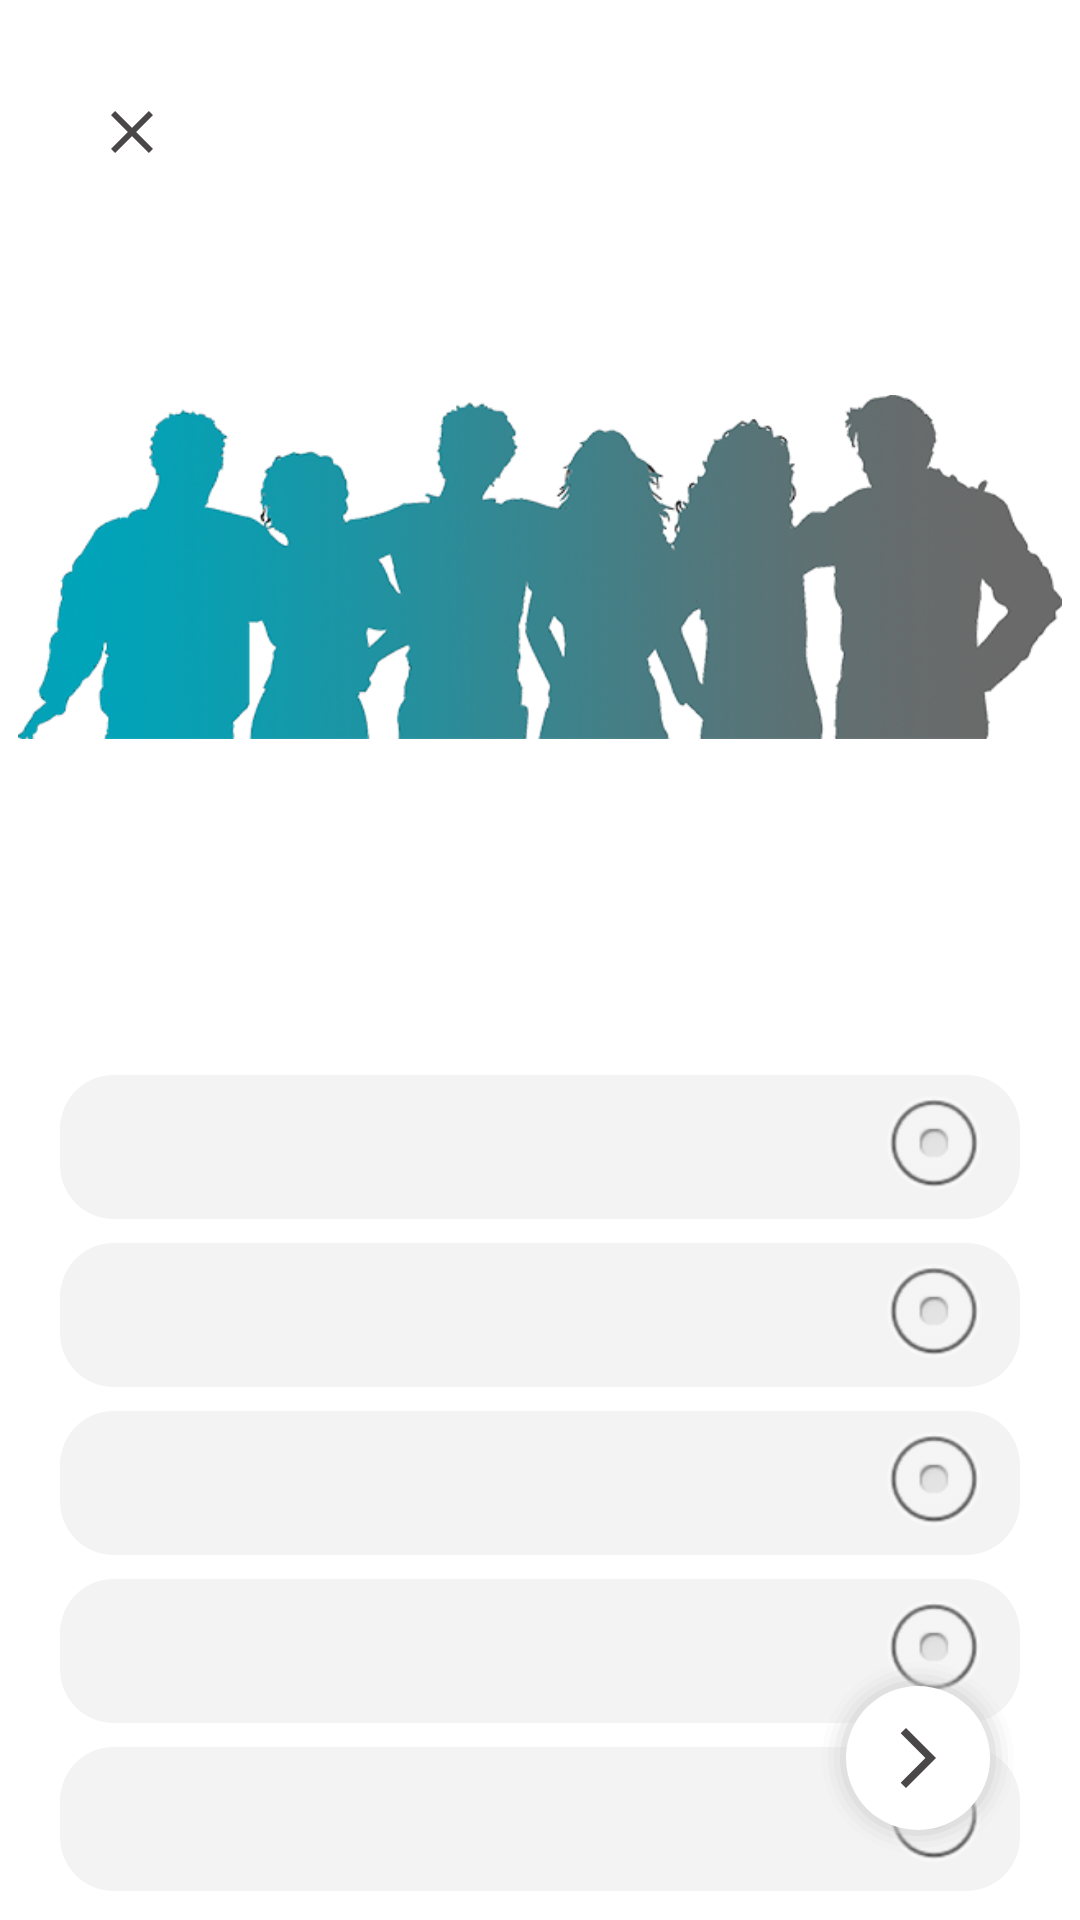

Icon bounding boxes for this 1080 x 1920 phone screenshot, format (x1, y1, x2, y2):
close: (111, 111, 153, 153)
